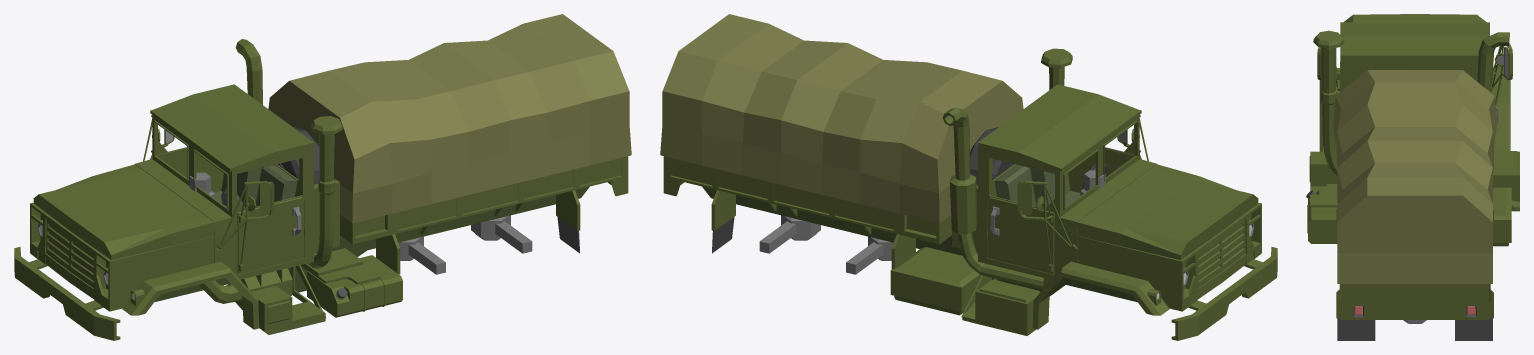
File: truck.glb
The picture shows the model from 3 angles, left to right: view 1: azimuth 30°, elevation 25°; view 2: azimuth 150°, elevation 25°; view 3: azimuth 270°, elevation 25°; orthographic projection. The views are drawn at different scales.
Parts seen in each view (by area): view 1: Main; view 2: Main; view 3: Main.
Boxes of the visible parts, x1=… form: Main: x1=14, y1=14, x2=631, y2=340; Main: x1=660, y1=14, x2=1277, y2=340; Main: x1=1306, y1=14, x2=1519, y2=340.
Bounding box in the file's own units: 7.26 × 2.7 × 2.67.
